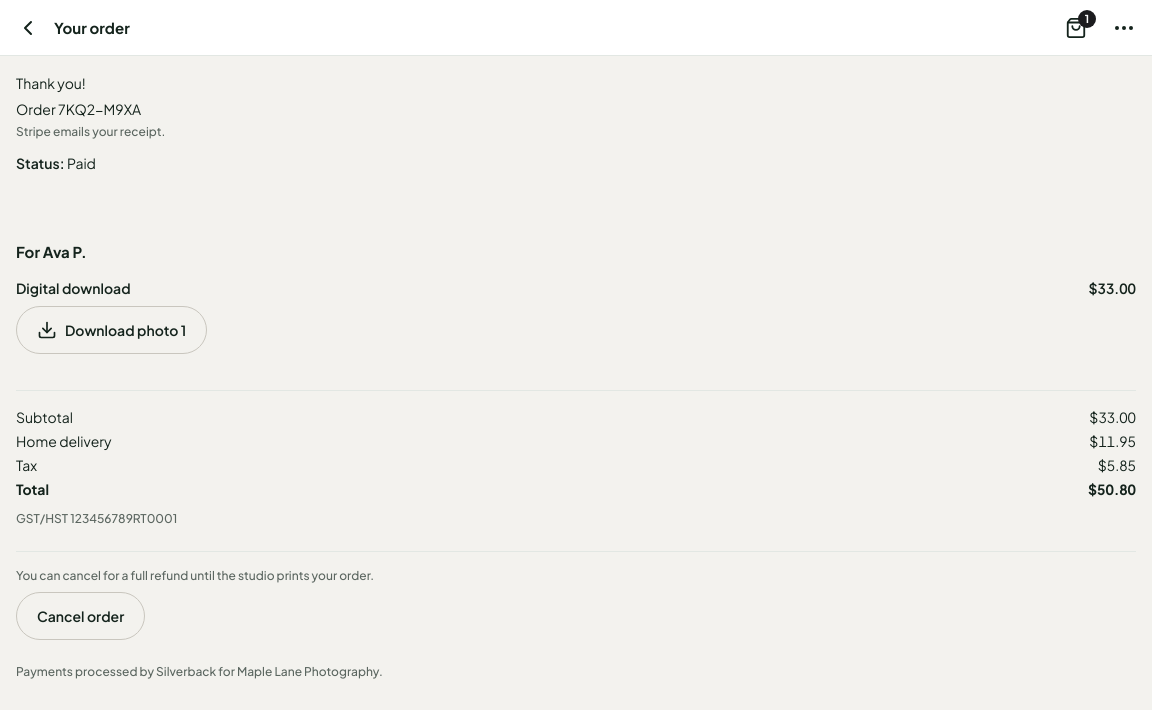
Test case: the order page after payment (ADR 0024) › says a refusal of the cancel in words
Click the button "Cancel order": (81, 616) [16,592,145,640]
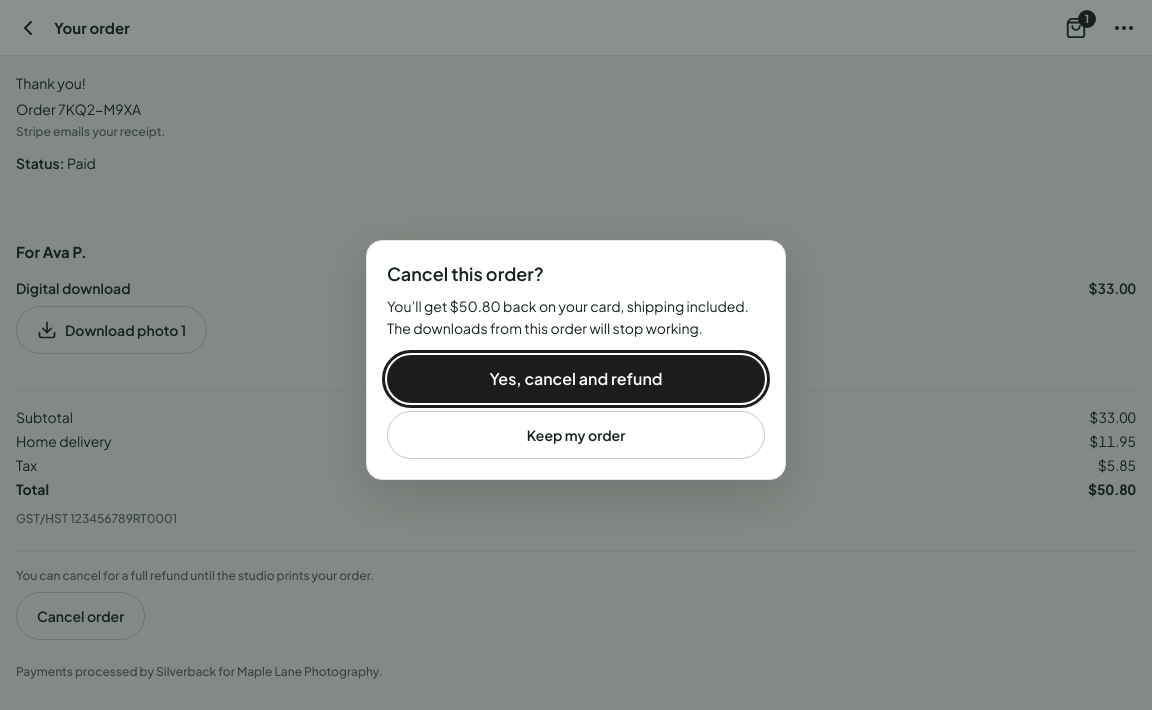
Click the button "Yes, cancel and refund": (576, 379) [387,355,765,403]
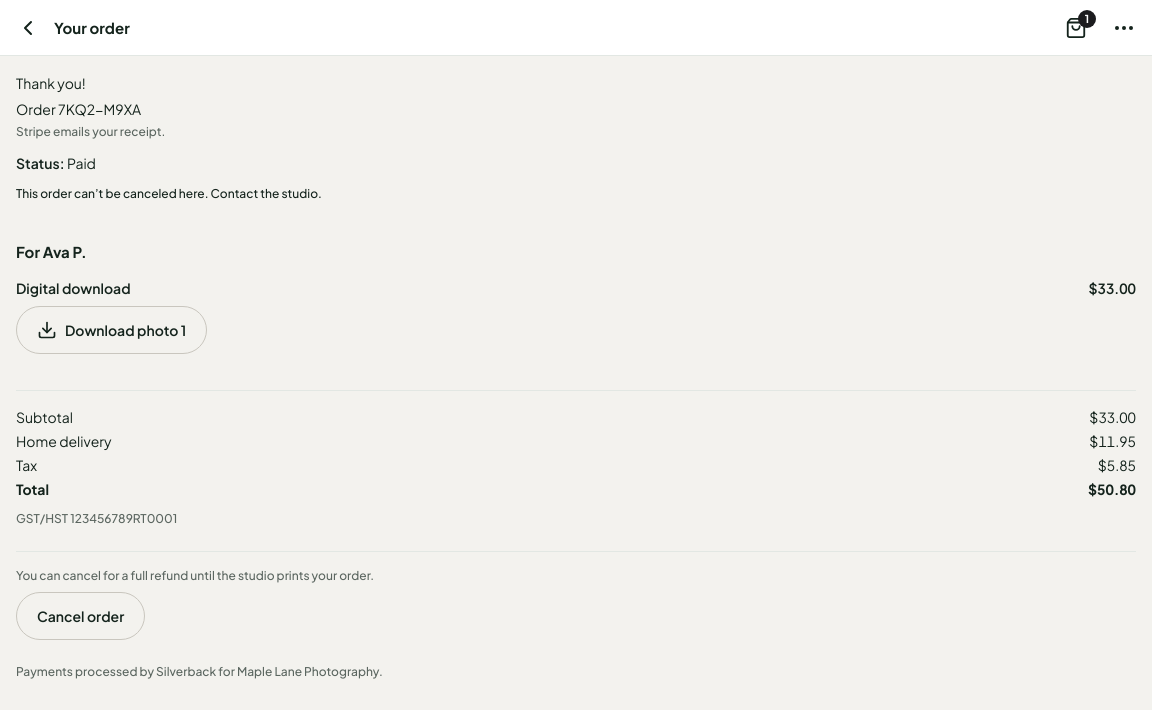
Expected: the text "This order can’t be canceled here. Contact the studio." is shown, [16,186,322,201]
